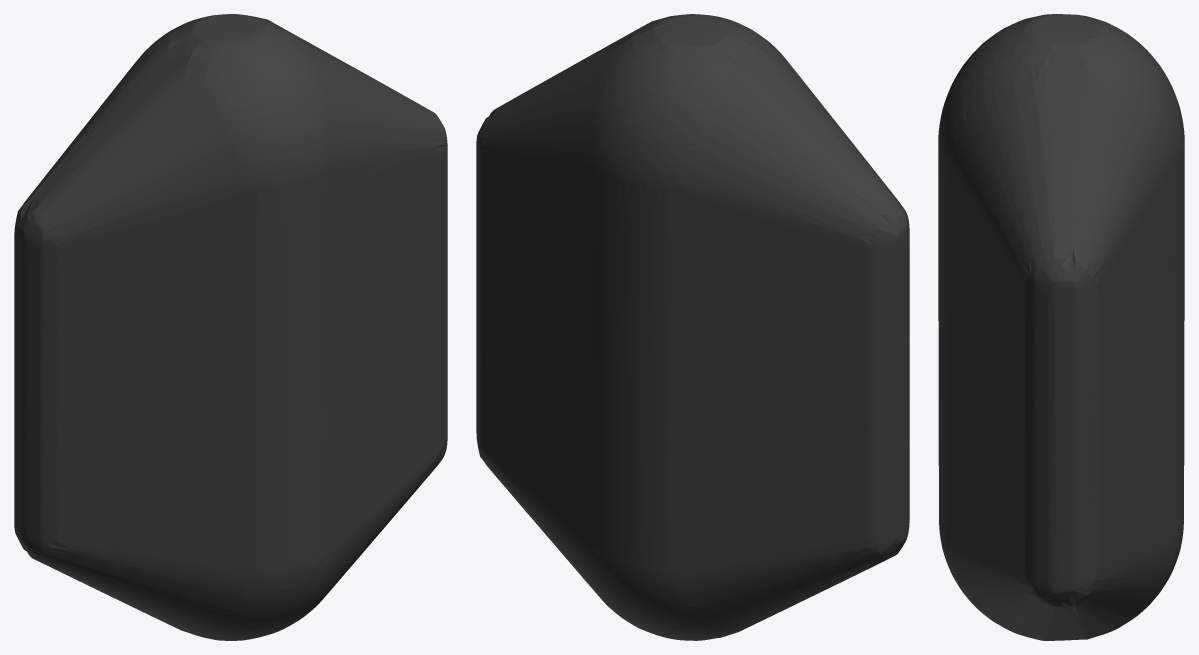
File: tmp_alien.glb
The picture shows the model from 3 angles, left to right: view 1: azimuth 30°, elevation 25°; view 2: azimuth 150°, elevation 25°; view 3: azimuth 270°, elevation 25°; orthographic projection.
Visible parts, largest first — view 1: body; view 2: body; view 3: body.
Boxes of the visible parts, x1,y1,x2,y2 form: body: [14, 14, 447, 640]; body: [476, 14, 909, 640]; body: [938, 14, 1184, 640].
Size of the model in its own units: 120 by 162 by 60.26.
Materials: 1 (1 with a texture image).
